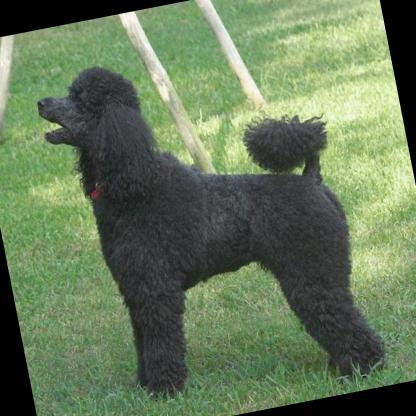standard_poodle: (28, 20, 390, 416)
